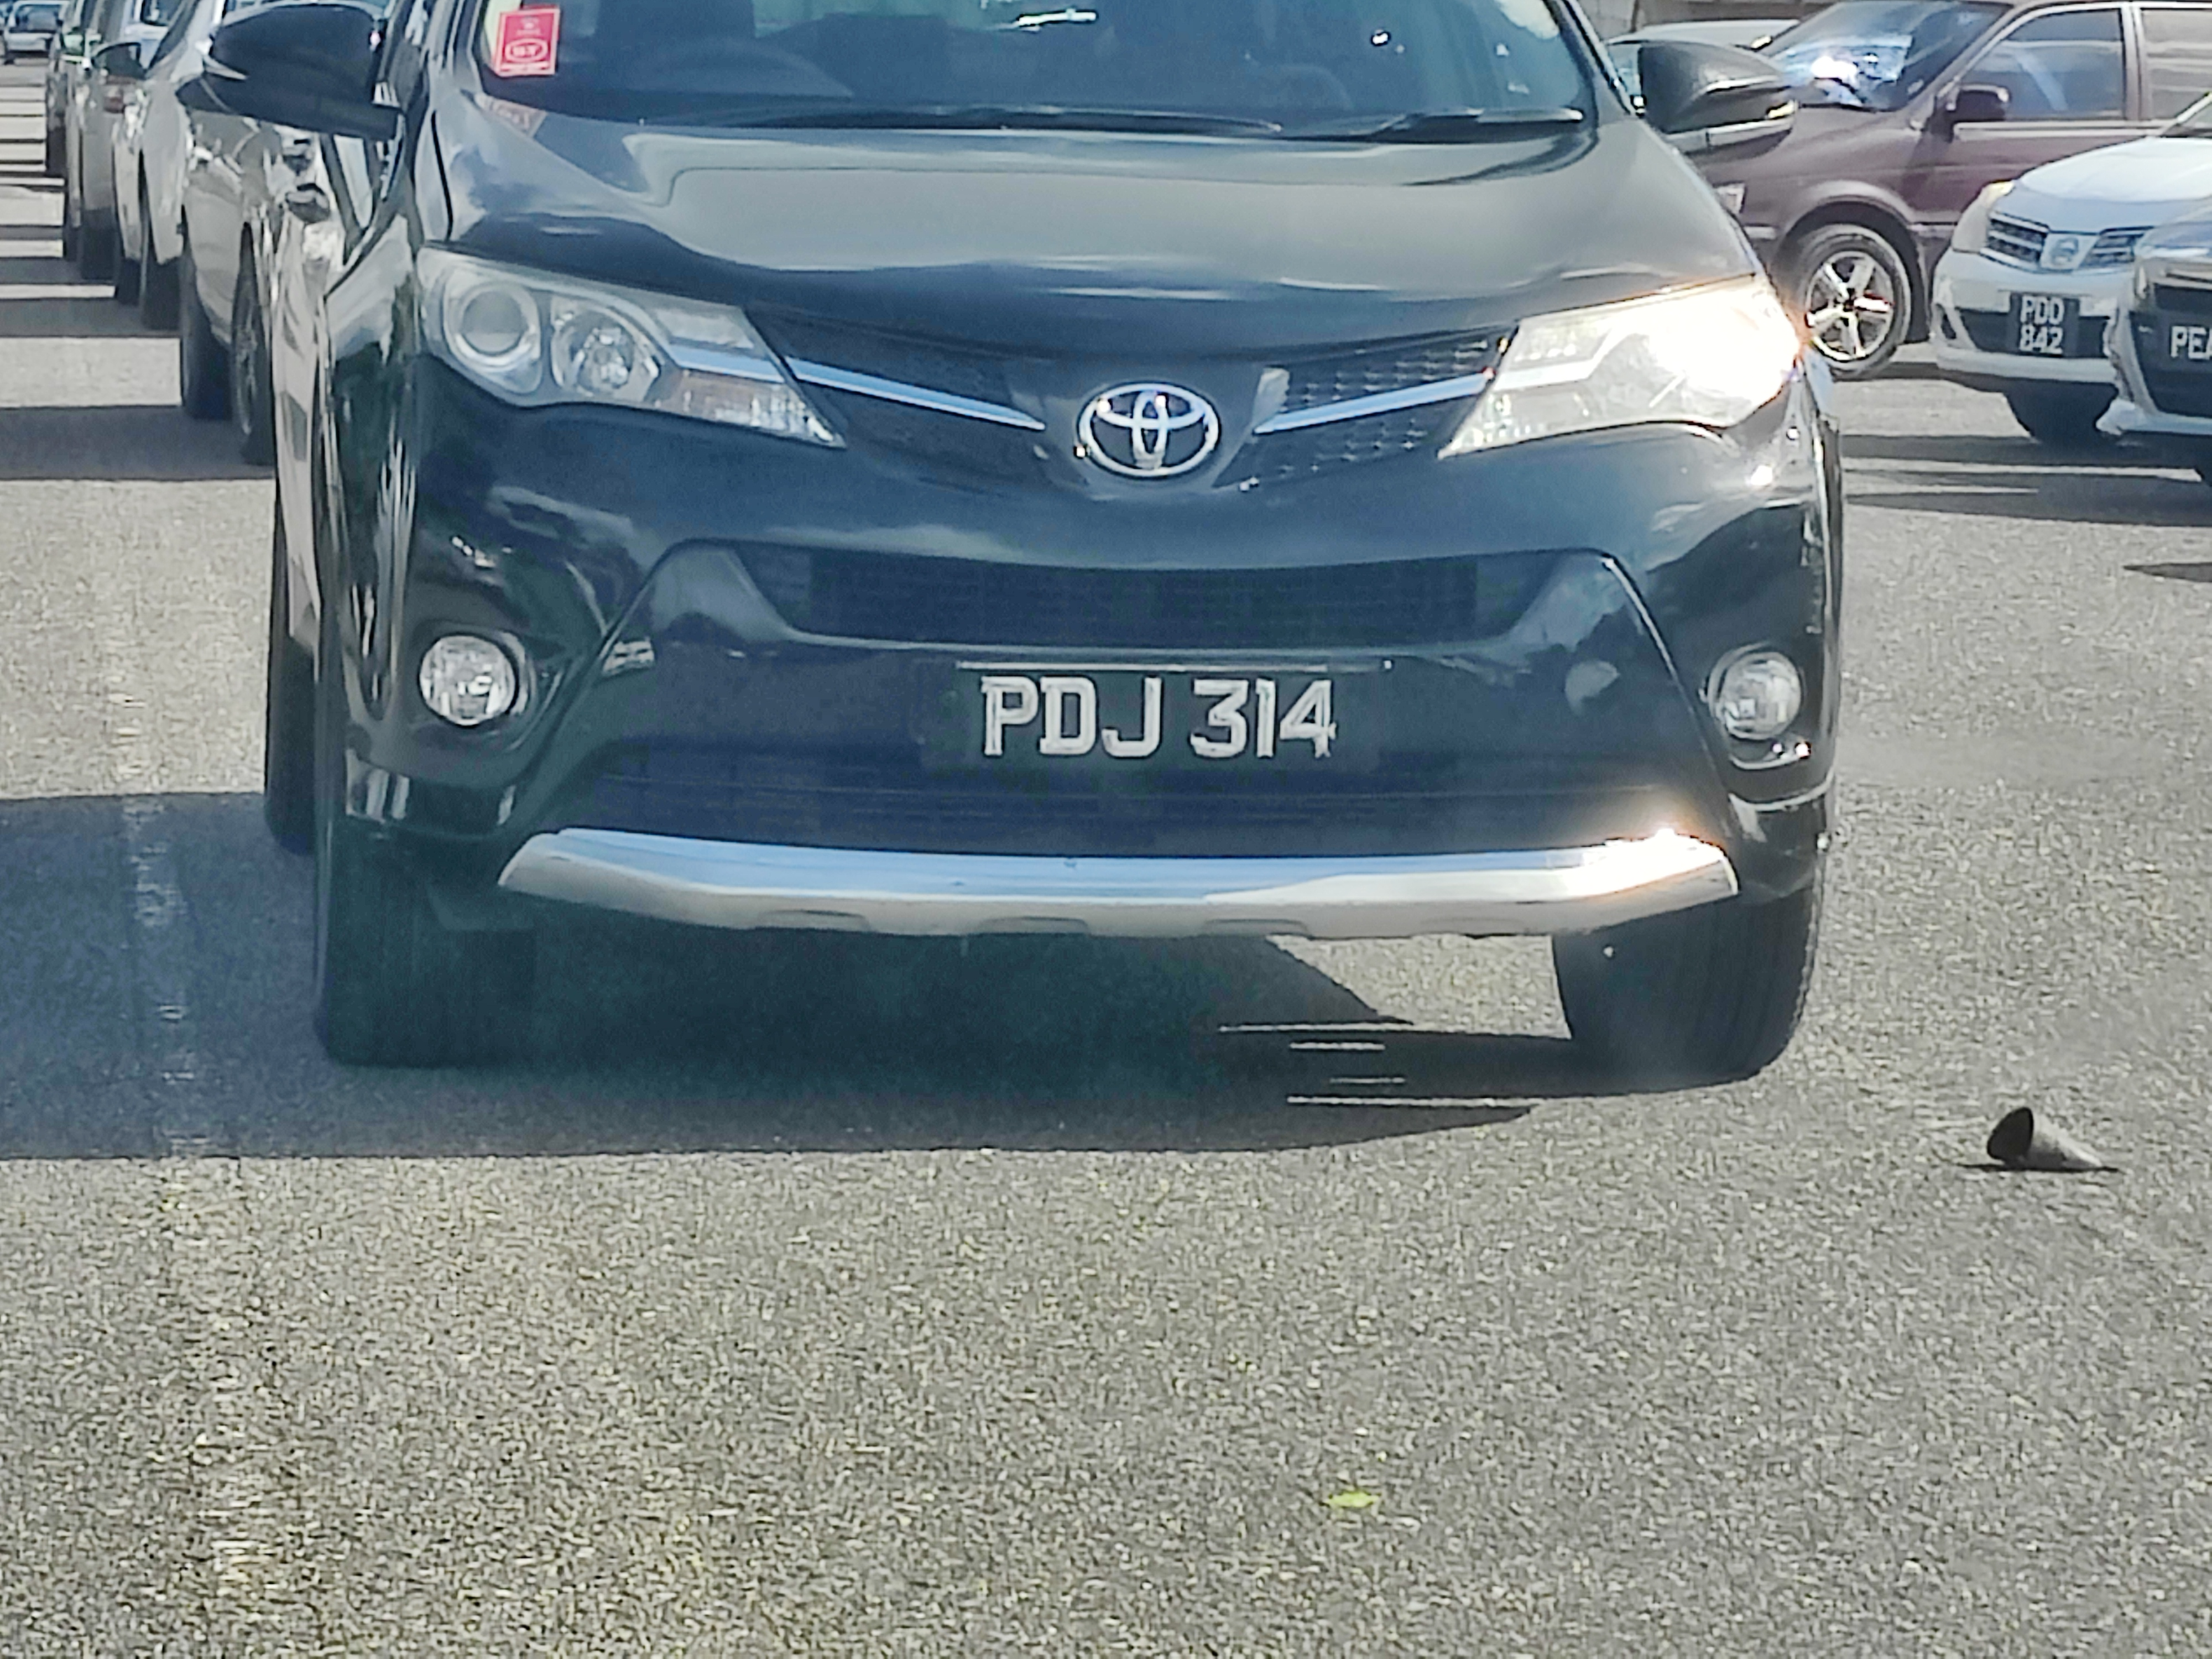License-Plate: (959, 664, 1366, 771), (2013, 290, 2079, 352)
